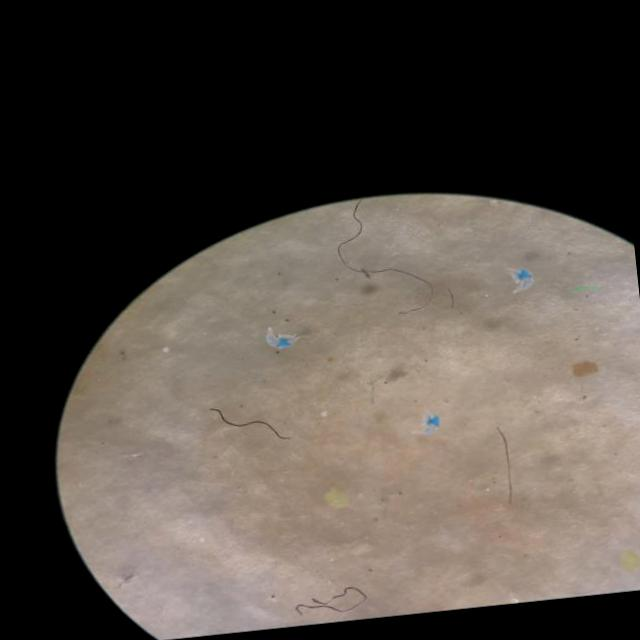fiber: (338, 200, 431, 288), (211, 407, 286, 439), (295, 586, 364, 612), (496, 427, 513, 500)
film: (265, 327, 294, 349), (513, 266, 531, 286), (423, 415, 438, 433)
fragment: (572, 361, 598, 377), (324, 488, 346, 506), (620, 550, 640, 569)
pellet: (163, 346, 168, 352), (321, 411, 325, 415), (199, 536, 203, 540)
